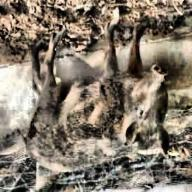boar: (17, 25, 192, 178)
